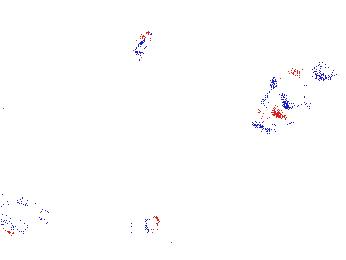X-ray fish: (242, 60, 338, 136), (104, 235, 199, 260)
red belly glassfish: (131, 28, 153, 59)
redtail glassfish: (1, 190, 66, 236)
